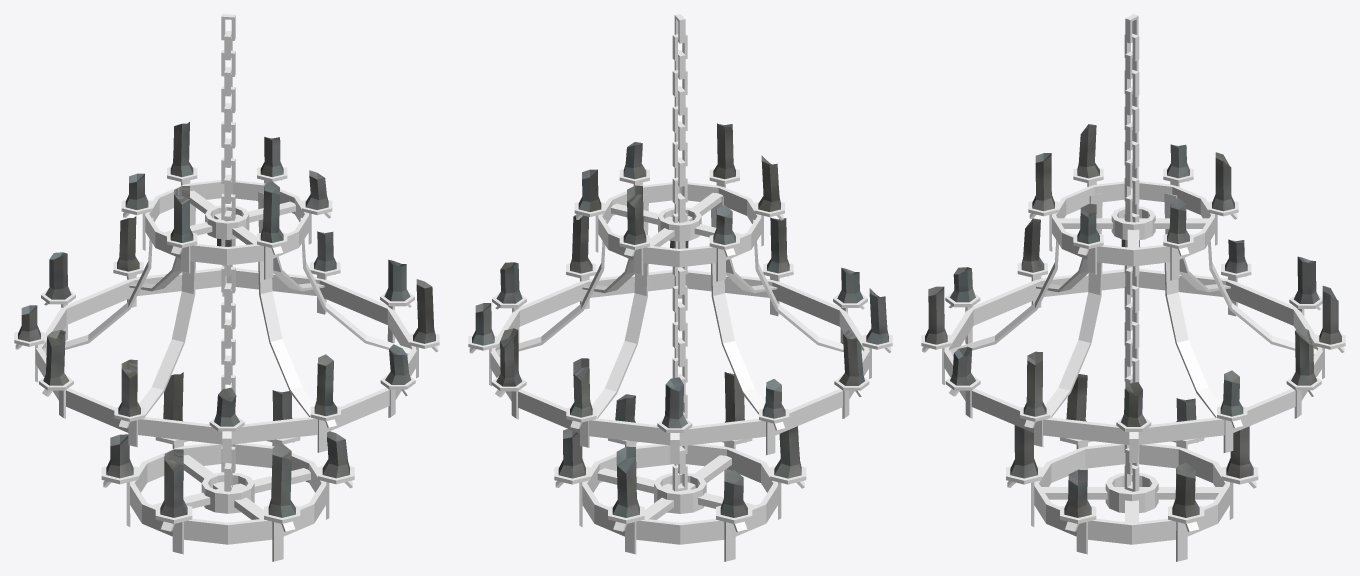
Rendered from Chandelier Big.fbx.
3 views of the same model, side by side, from view 1: azimuth 30°, elevation 25°; view 2: azimuth 150°, elevation 25°; view 3: azimuth 270°, elevation 25° (orthographic).
Parts seen in each view (by area): view 1: Chandelier_Big; view 2: Chandelier_Big; view 3: Chandelier_Big.
Part boxes in pixels (x1,y1,x2,y2): Chandelier_Big: [14, 14, 439, 561]; Chandelier_Big: [468, 14, 892, 561]; Chandelier_Big: [921, 14, 1345, 561].
Bounding box in the file's own units: 859 × 1134 × 859.
1 material, 1 textured.
